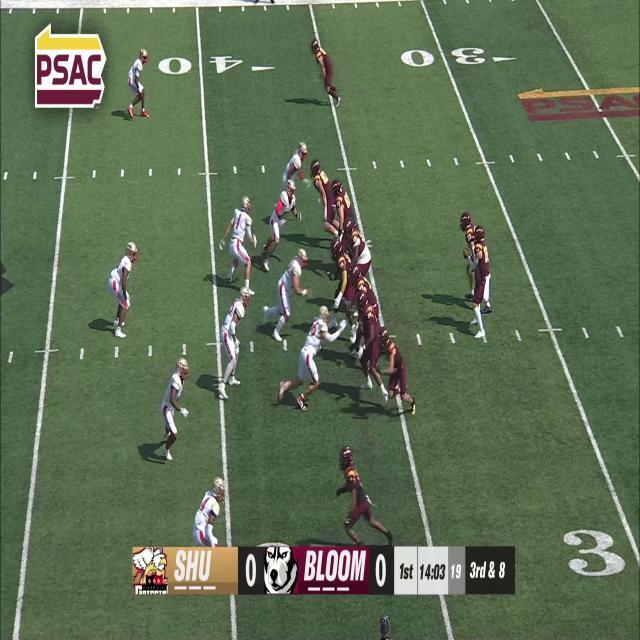football: (462, 246, 470, 258)
